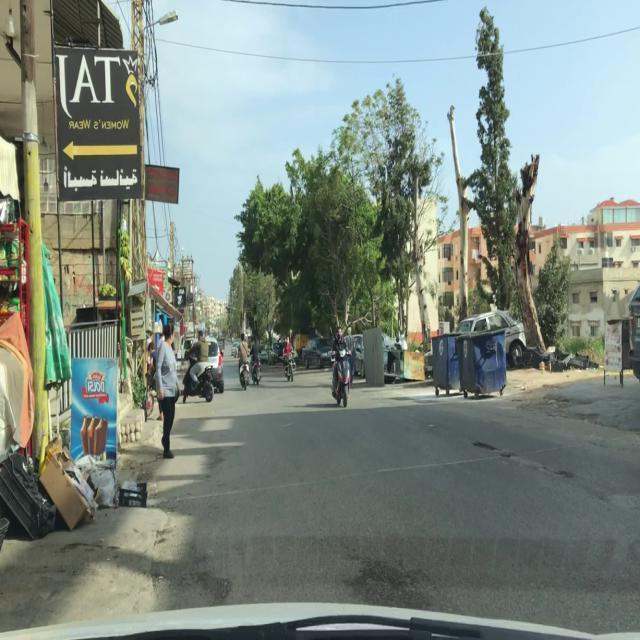pothole: (472, 440, 499, 452)
